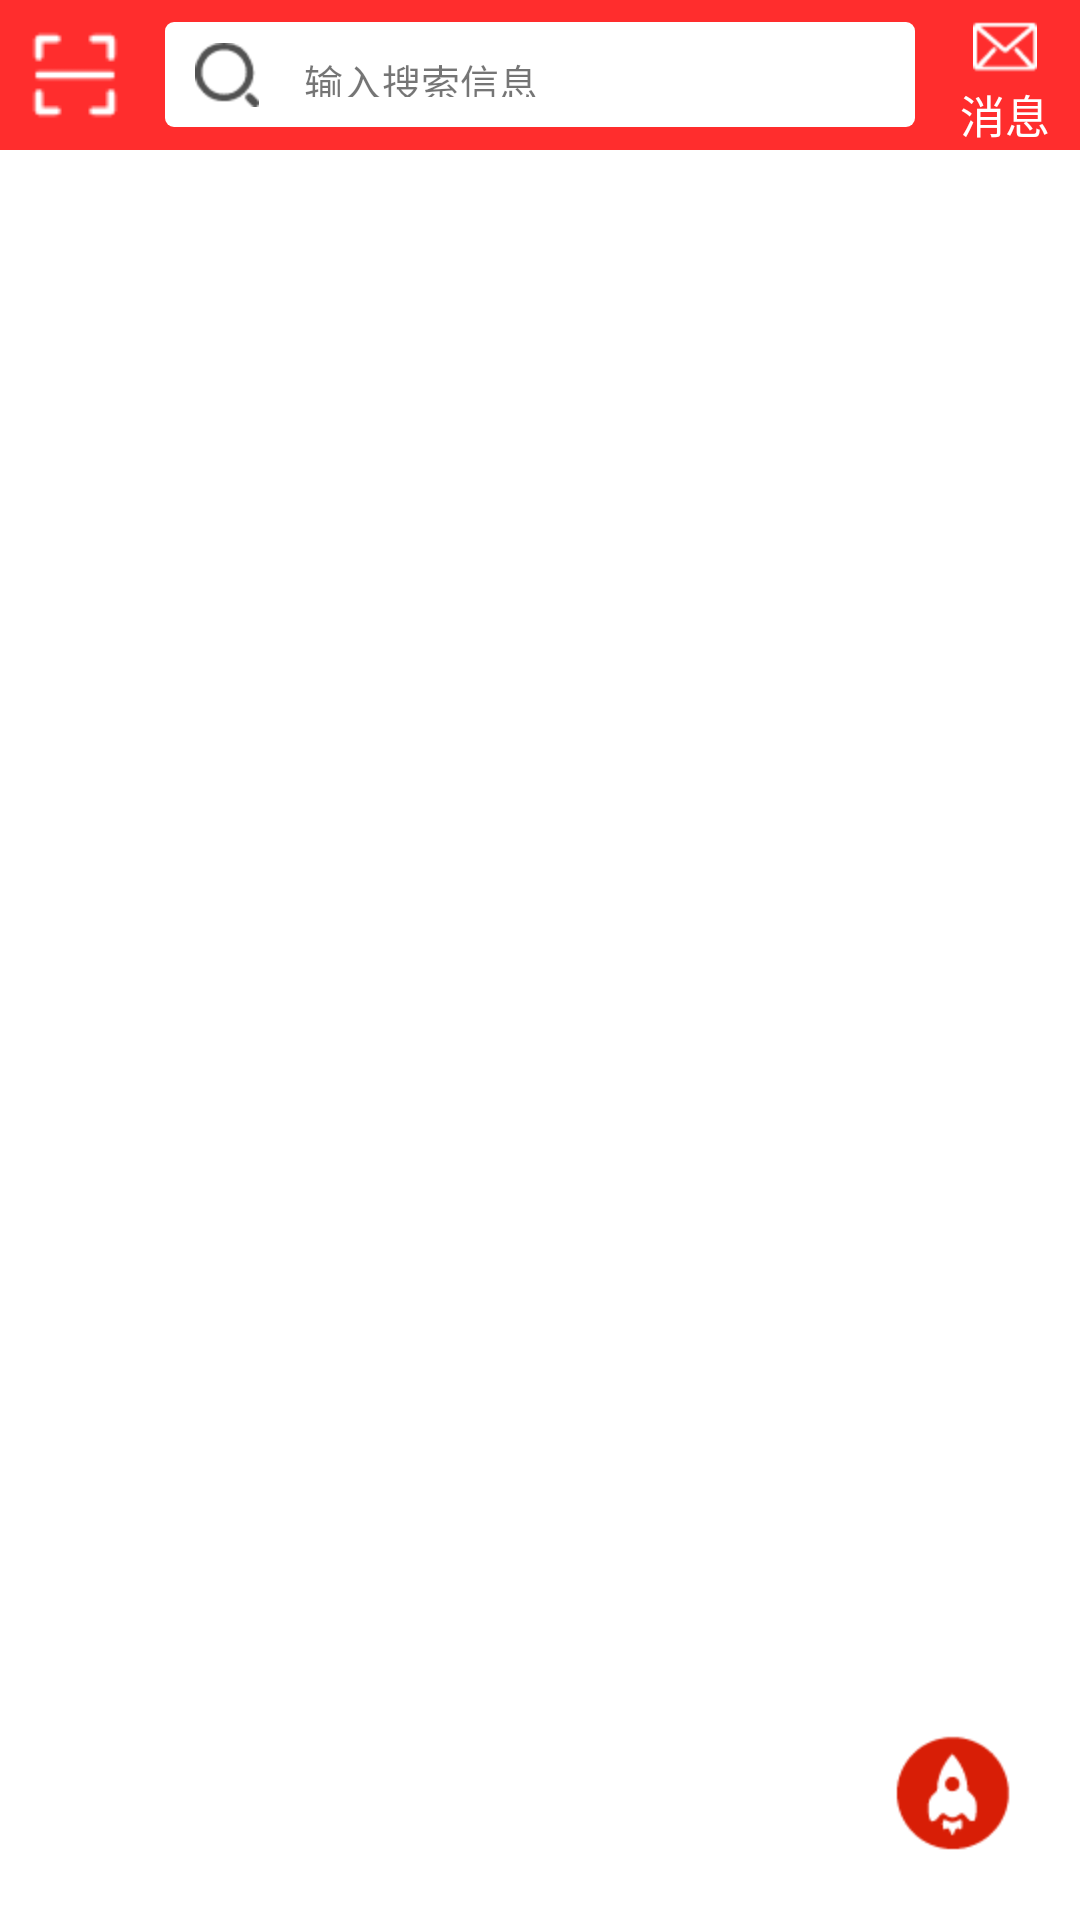

Locate icon controls on the screen. Image size 1080×1920, boxes as BBox(x1, y1, x2, y2).
return top main: BBox(896, 1736, 1010, 1850)
scan main: BBox(33, 33, 117, 117)
